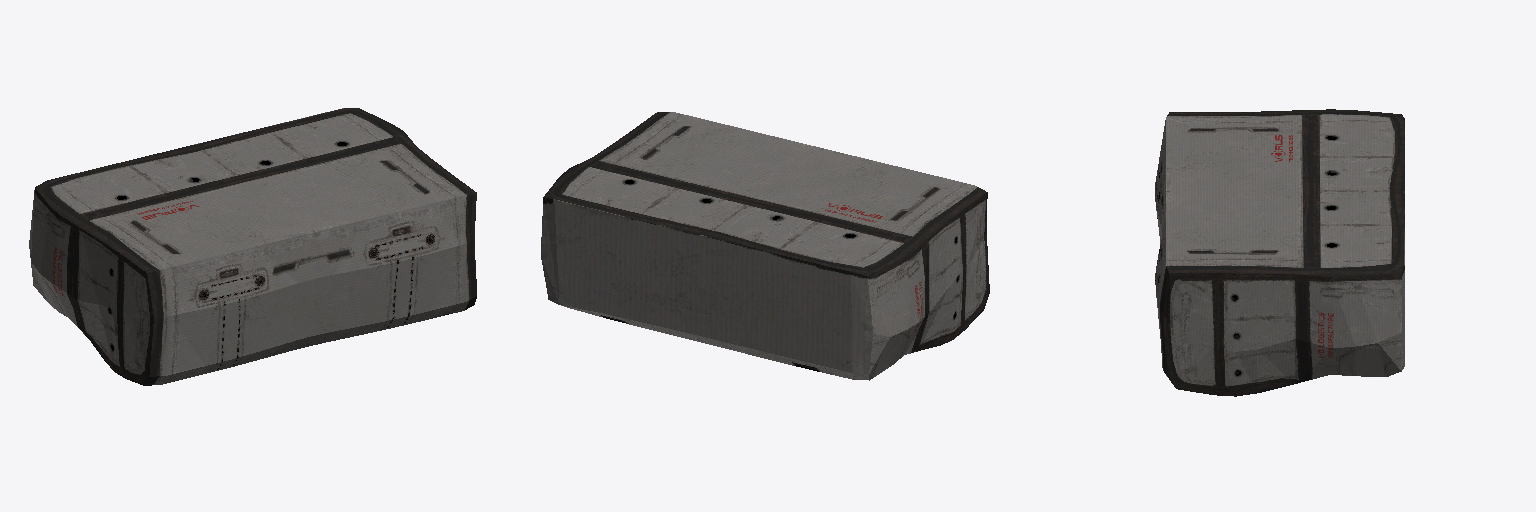
3 views of the same model, side by side, from view 1: azimuth 30°, elevation 25°; view 2: azimuth 150°, elevation 25°; view 3: azimuth 270°, elevation 25° (orthographic).
Visible parts, largest first — view 1: health_pack_big_a; view 2: health_pack_big_a; view 3: health_pack_big_a.
Part boxes in pixels (left/top/right/bottom): health_pack_big_a: left=29, top=108, right=476, bottom=385; health_pack_big_a: left=541, top=112, right=989, bottom=380; health_pack_big_a: left=1155, top=109, right=1404, bottom=396.
Size of the model in its own units: 86.26 by 30.33 by 52.68.
Materials: 1 (1 with a texture image).